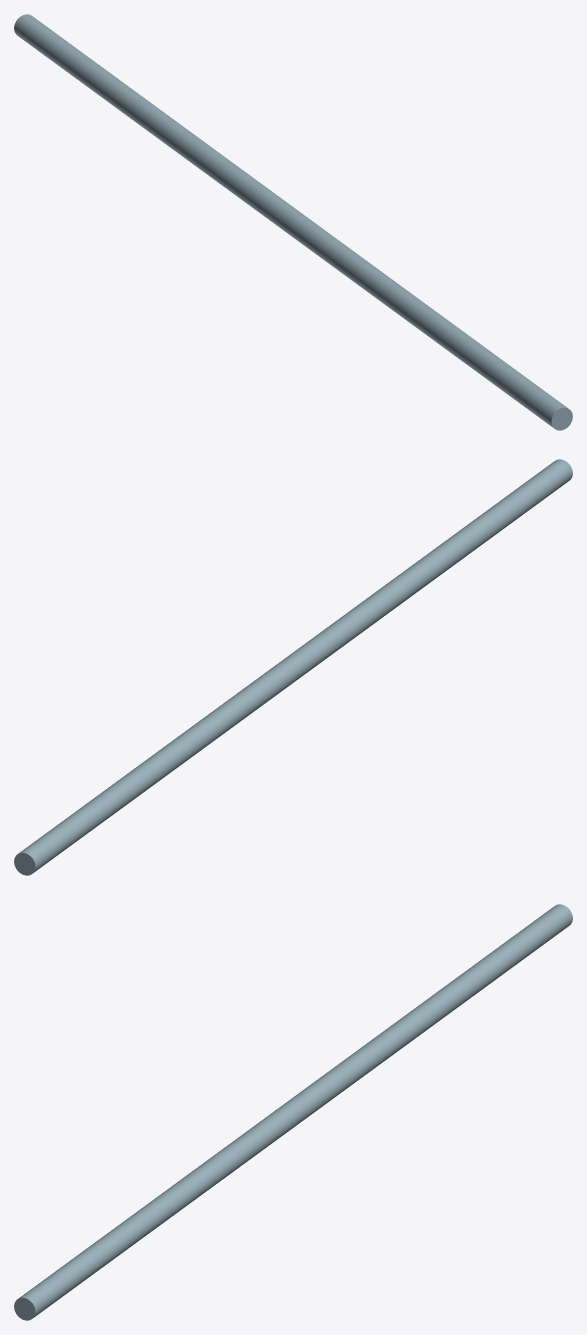
Rendered from Pipe.FBX.
3 renders of one model, top to bottom at view 1: azimuth 30°, elevation 25°; view 2: azimuth 150°, elevation 25°; view 3: azimuth 330°, elevation 25°, orthographic.
Visible parts, largest first — view 1: Pipe; view 2: Pipe; view 3: Pipe.
Boxes of the visible parts, box(x1,y1,x2,y2) form: Pipe: box(14, 14, 572, 430); Pipe: box(14, 459, 572, 875); Pipe: box(14, 904, 572, 1320).
Size of the model in its own units: 2 by 1.97 by 86.6.
